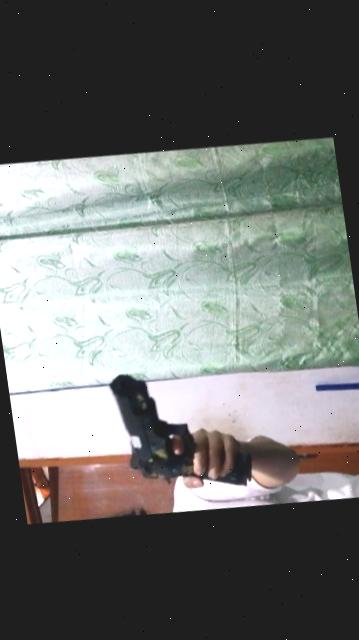pistol: (98, 347, 263, 509)
